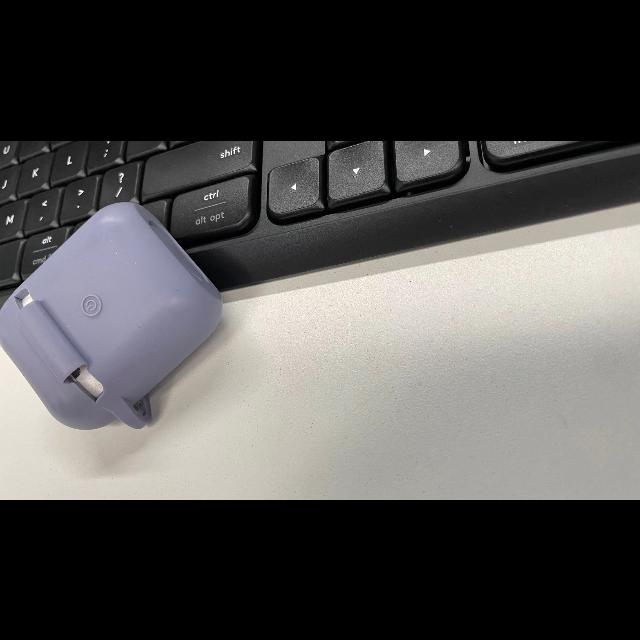airpods: (0, 201, 222, 430)
